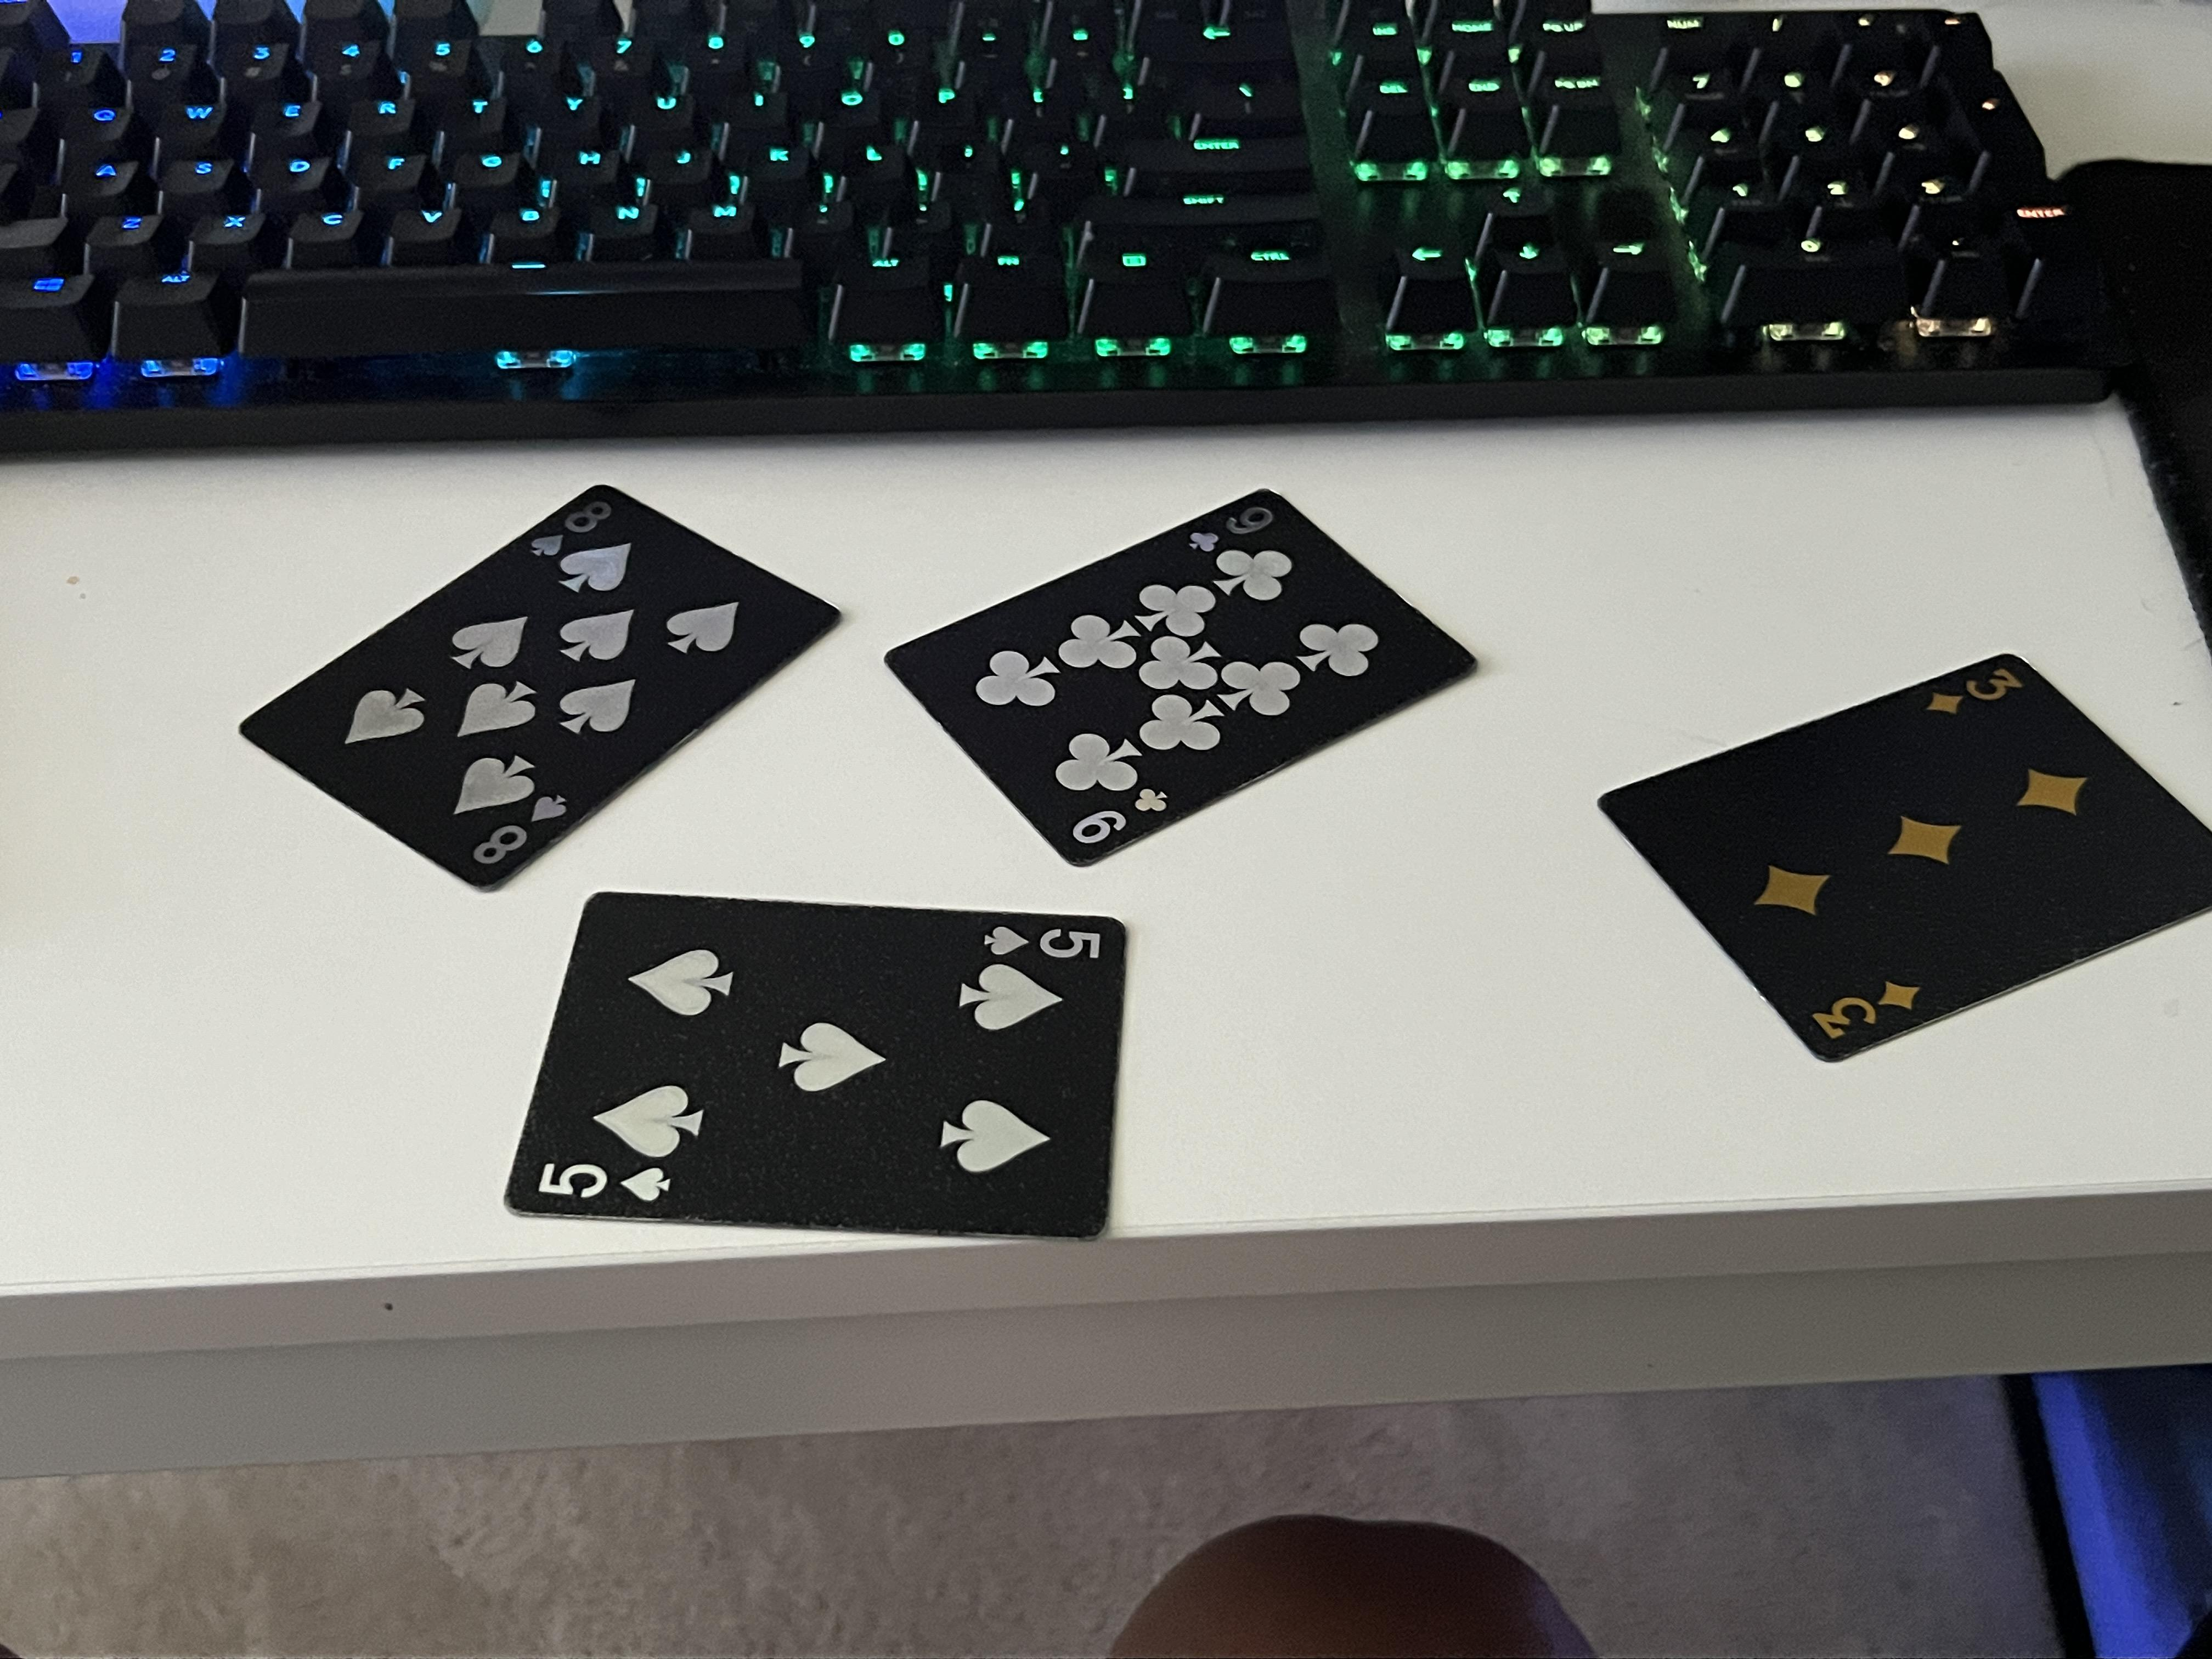3D: (1792, 955, 1937, 1047), (1911, 659, 2034, 728)
5S: (528, 1150, 678, 1208), (977, 920, 1111, 965)
8S: (462, 782, 578, 880), (517, 491, 631, 570)
9C: (1055, 774, 1184, 854), (1169, 490, 1287, 559)
